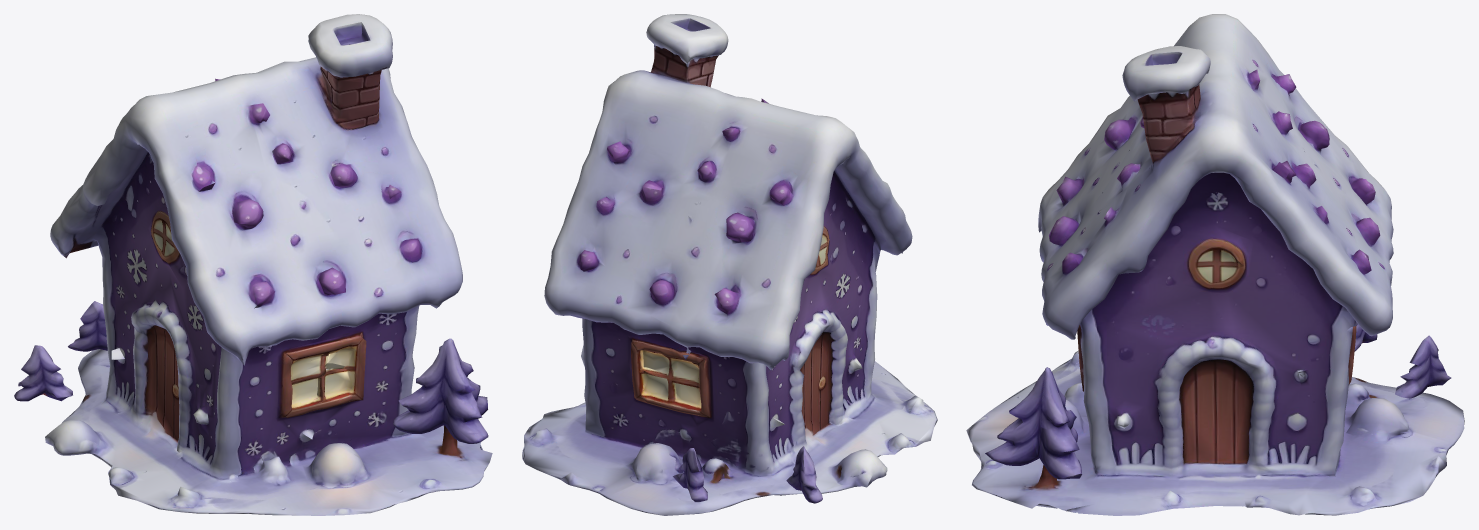
File: house_purple.glb
3 renders of one model, left to right at view 1: azimuth 30°, elevation 25°; view 2: azimuth 150°, elevation 25°; view 3: azimuth 270°, elevation 25°, orthographic. The views are drawn at different scales.
Visible parts, largest first — view 1: tripo_node_f20a26d6; view 2: tripo_node_f20a26d6; view 3: tripo_node_f20a26d6.
Part boxes in pixels (x1,y1,x2,y2): tripo_node_f20a26d6: [14, 14, 492, 515]; tripo_node_f20a26d6: [522, 14, 937, 515]; tripo_node_f20a26d6: [966, 14, 1464, 515].
Size of the model in its own units: 81.33 by 90.22 by 97.51.
1 material, 1 textured.
